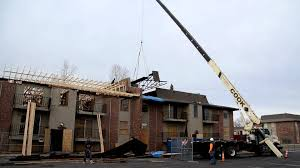crane: (155, 2, 286, 162)
